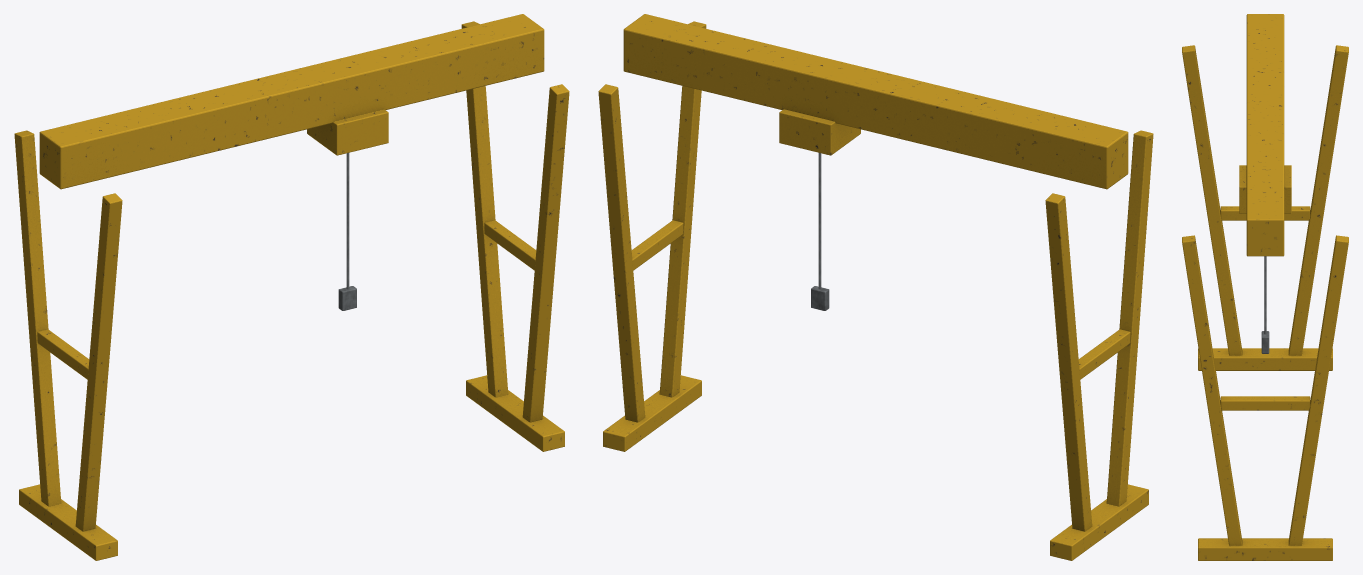
File: city_gantry.glb
3 renders of one model, left to right at view 1: azimuth 30°, elevation 25°; view 2: azimuth 150°, elevation 25°; view 3: azimuth 270°, elevation 25°, orthographic. The views are drawn at different scales.
Visible parts, largest first — view 1: city_gantry; view 2: city_gantry; view 3: city_gantry.
Boxes of the visible parts, x1,y1,x2,y2 form: city_gantry: [14, 14, 569, 560]; city_gantry: [598, 14, 1153, 560]; city_gantry: [1182, 14, 1348, 560].
Size of the model in its own units: 13 by 10.15 by 4.45.
2 materials, 2 textured.
